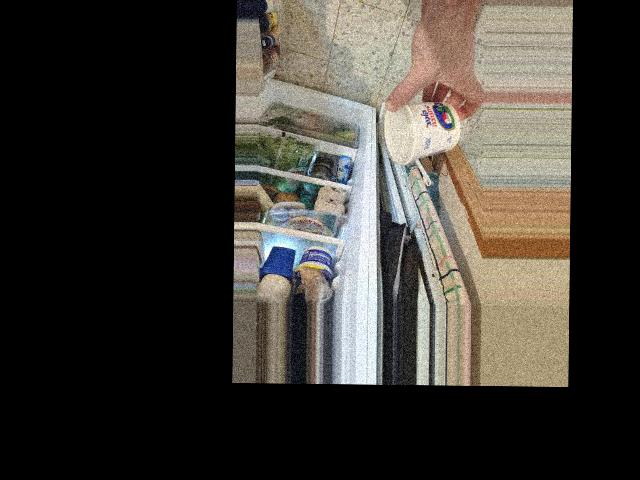cotage: (380, 88, 463, 167)
